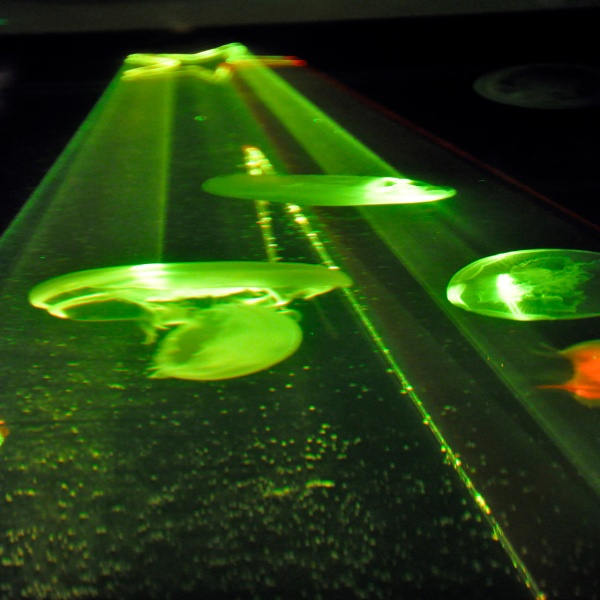Jellyfish: (119, 286, 304, 379)
